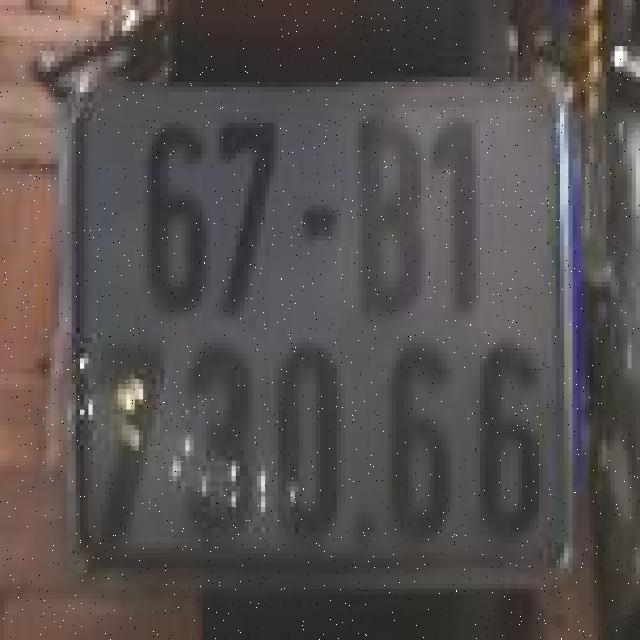0: (272, 325, 348, 566)
1: (426, 110, 488, 330)
3: (173, 317, 265, 574)
6: (377, 320, 465, 550), (128, 100, 217, 325), (469, 323, 554, 558)
7: (82, 338, 162, 568), (212, 110, 292, 330)
B: (343, 113, 423, 312)
